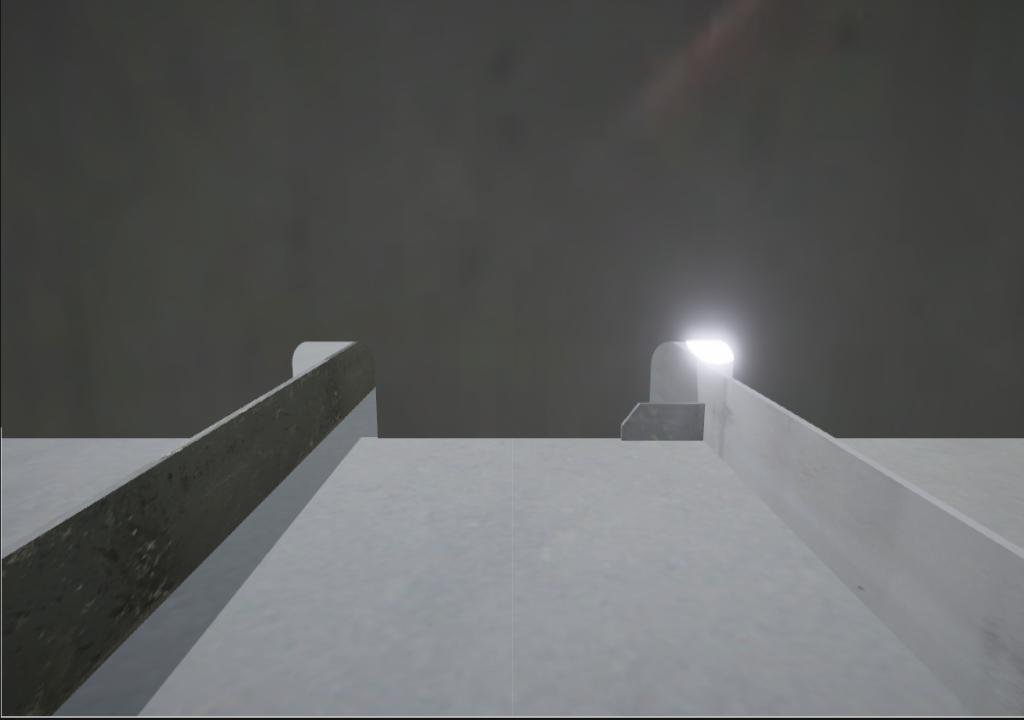fillet_yong_jeop_jang: (374, 429, 624, 445)
plate_CP03: (620, 401, 705, 442)
